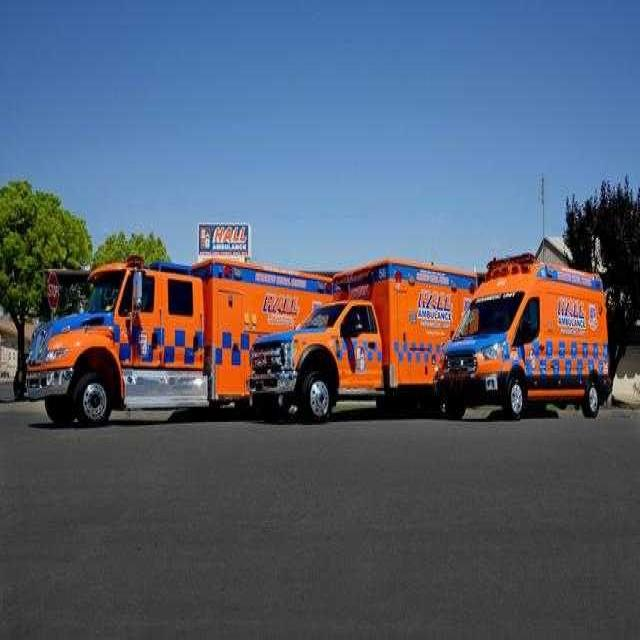ambulance: (26, 254, 296, 403), (429, 261, 622, 420), (260, 264, 450, 424)
